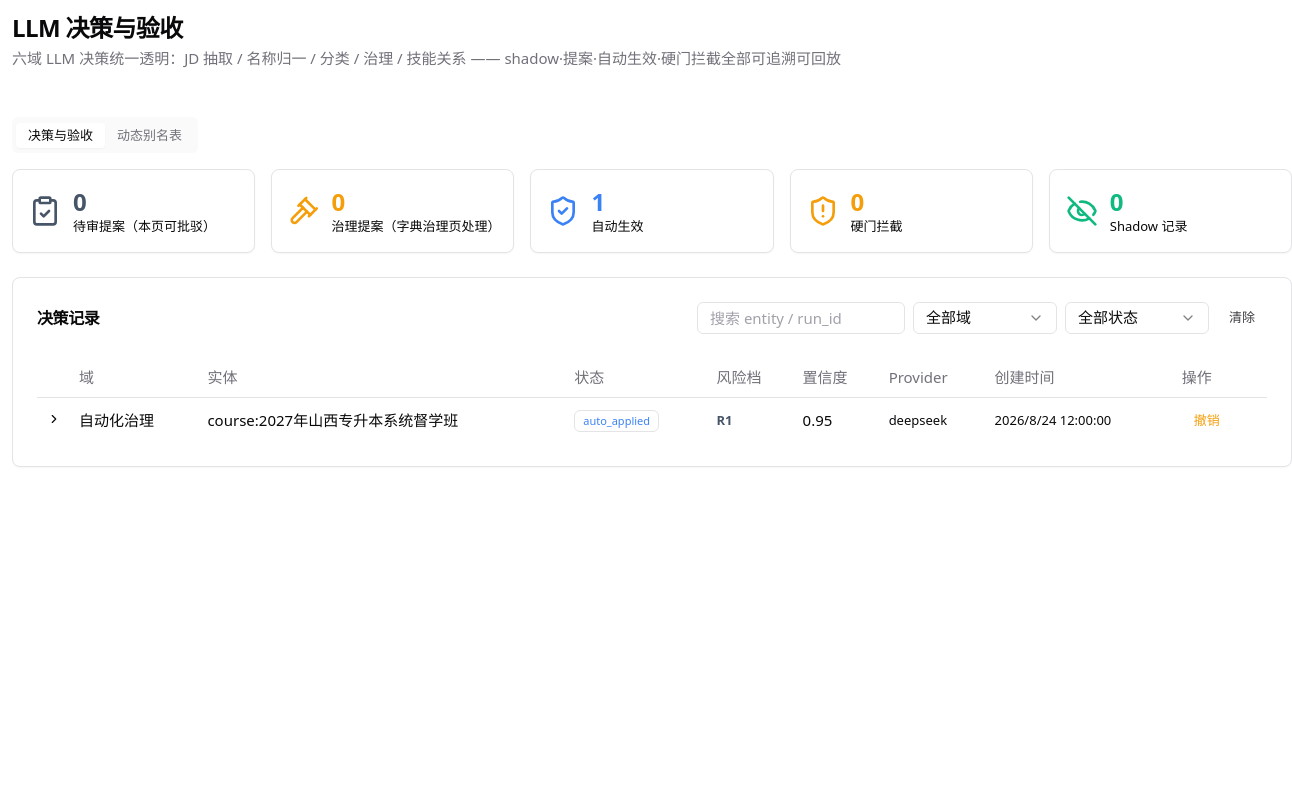
Test: AdminLlmDecisionsPage 详情展开 › governance auto_applied 展开显示已执行副作用与决策输出
Expected: the text "course:2027年山西专升本系统督学班" is shown, [207,410,458,430]
Expected: the text "已执行的副作用" is not shown
Step 1. Click the button named "展开详情" → [54, 418], box [45,410,63,428]
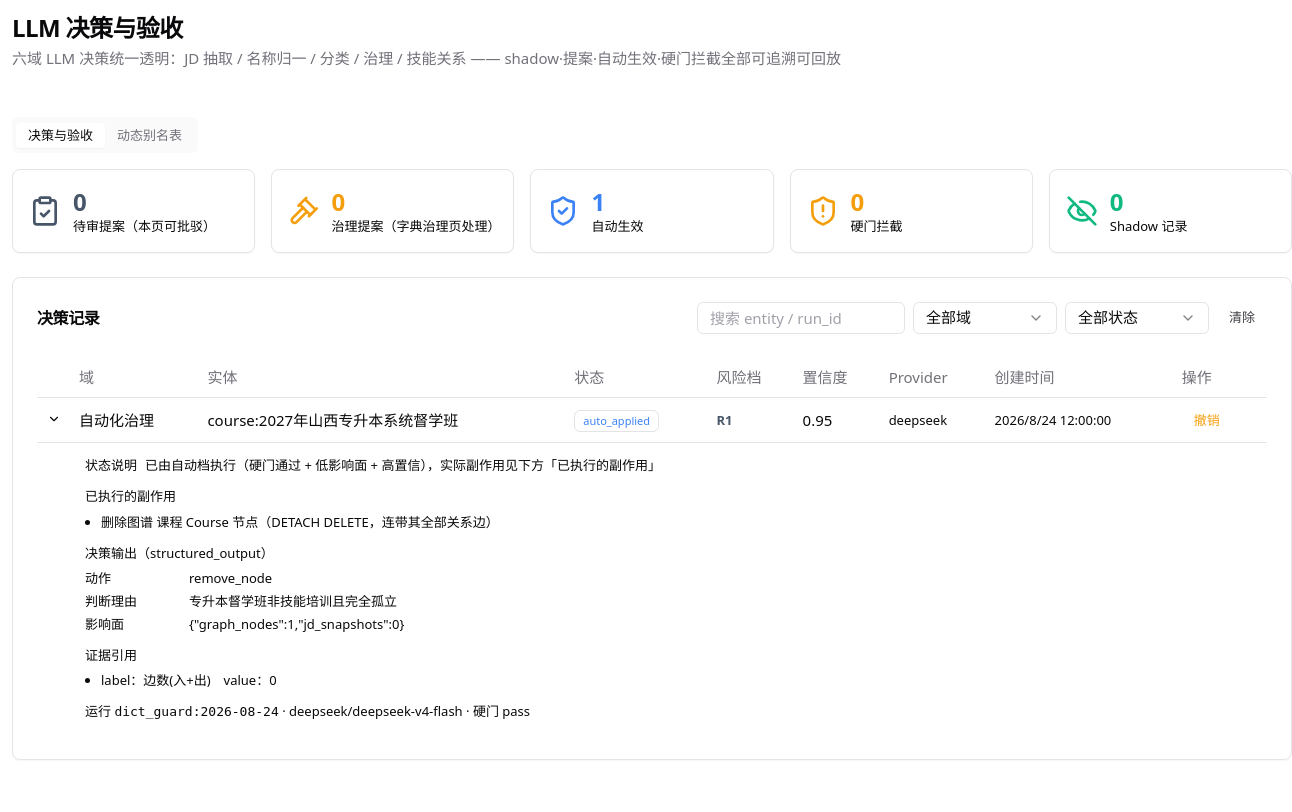
Result: the text "已执行的副作用" is shown at [85,487,176,505]
Result: the list item "删除图谱 课程 Course 节点（DETACH DELETE，连带其全部关系边）" is shown at [101,512,499,530]
Result: the text "专升本督学班非技能培训且完全孤立" is shown at [189,592,397,610]
#  收起后详情消失
Step 2. Click the button named "收起详情" → [54, 418], box [45,410,63,428]
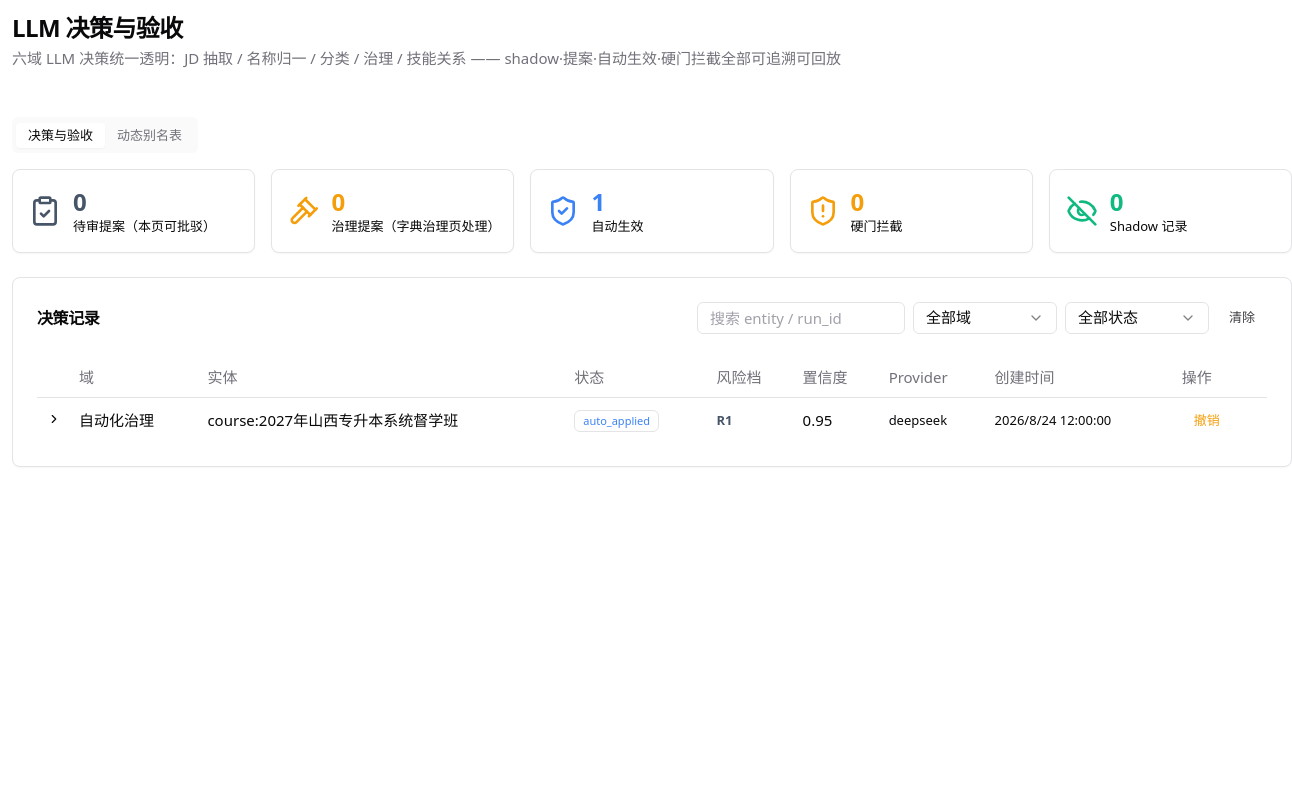
Result: the text "已执行的副作用" is gone
